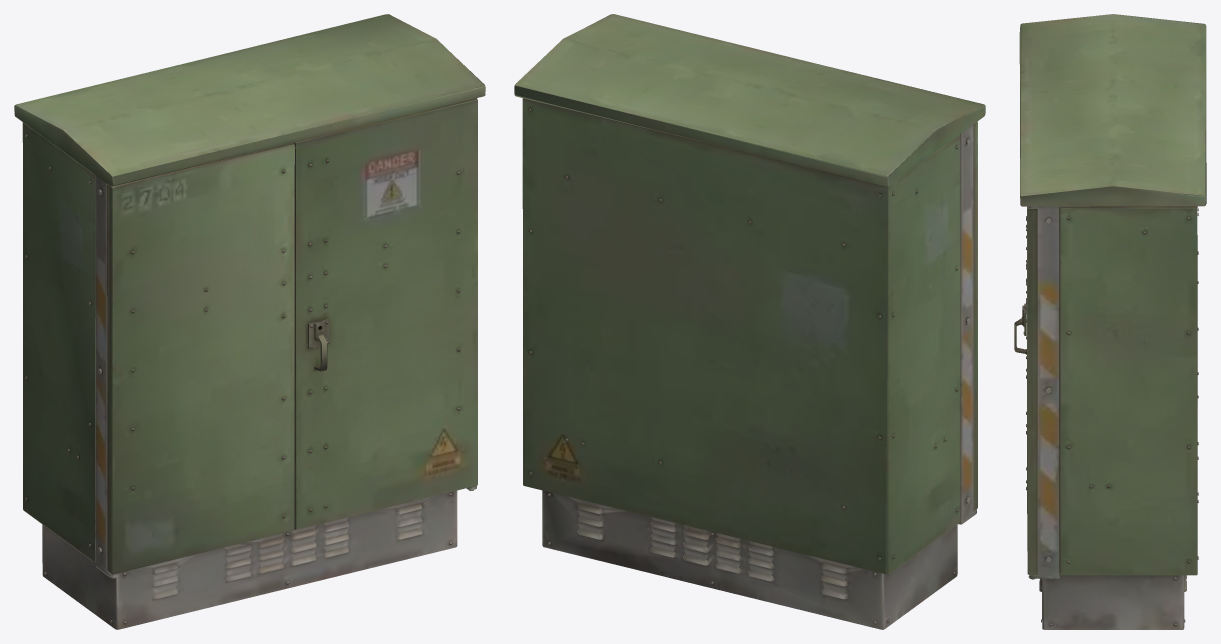
Rendered from utility_box_02.glb.
3 renders of one model, left to right at view 1: azimuth 30°, elevation 25°; view 2: azimuth 150°, elevation 25°; view 3: azimuth 270°, elevation 25°, orthographic. The views are drawn at different scales.
Visible parts, largest first — view 1: utility_box_02; view 2: utility_box_02; view 3: utility_box_02.
Boxes of the visible parts, box(x1,y1,x2,y2) form: utility_box_02: box(14, 14, 485, 629); utility_box_02: box(514, 14, 985, 629); utility_box_02: box(1014, 14, 1206, 629).
Size of the model in its own units: 0.9186 by 1.12 by 0.432.
1 material, 1 textured.
